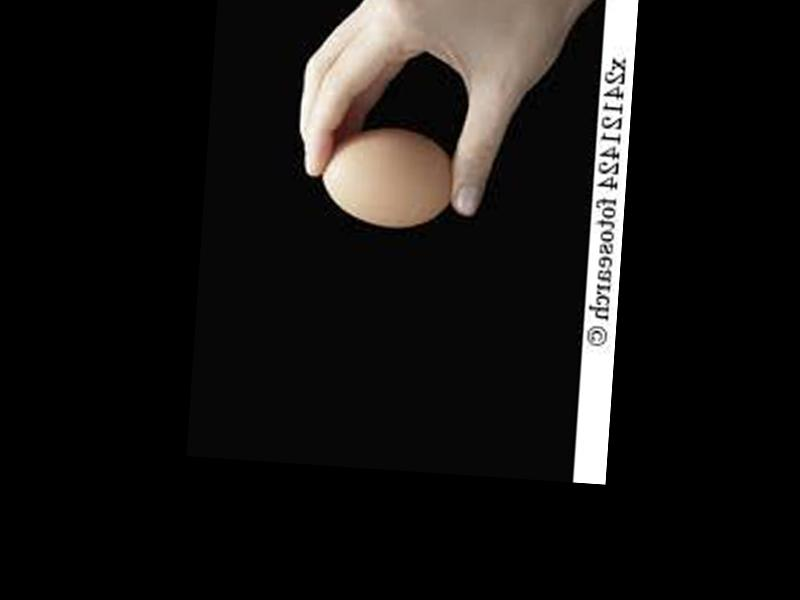Eggs: (315, 124, 456, 230)
